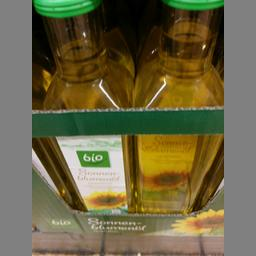oil: (30, 0, 132, 211), (130, 0, 224, 214)
